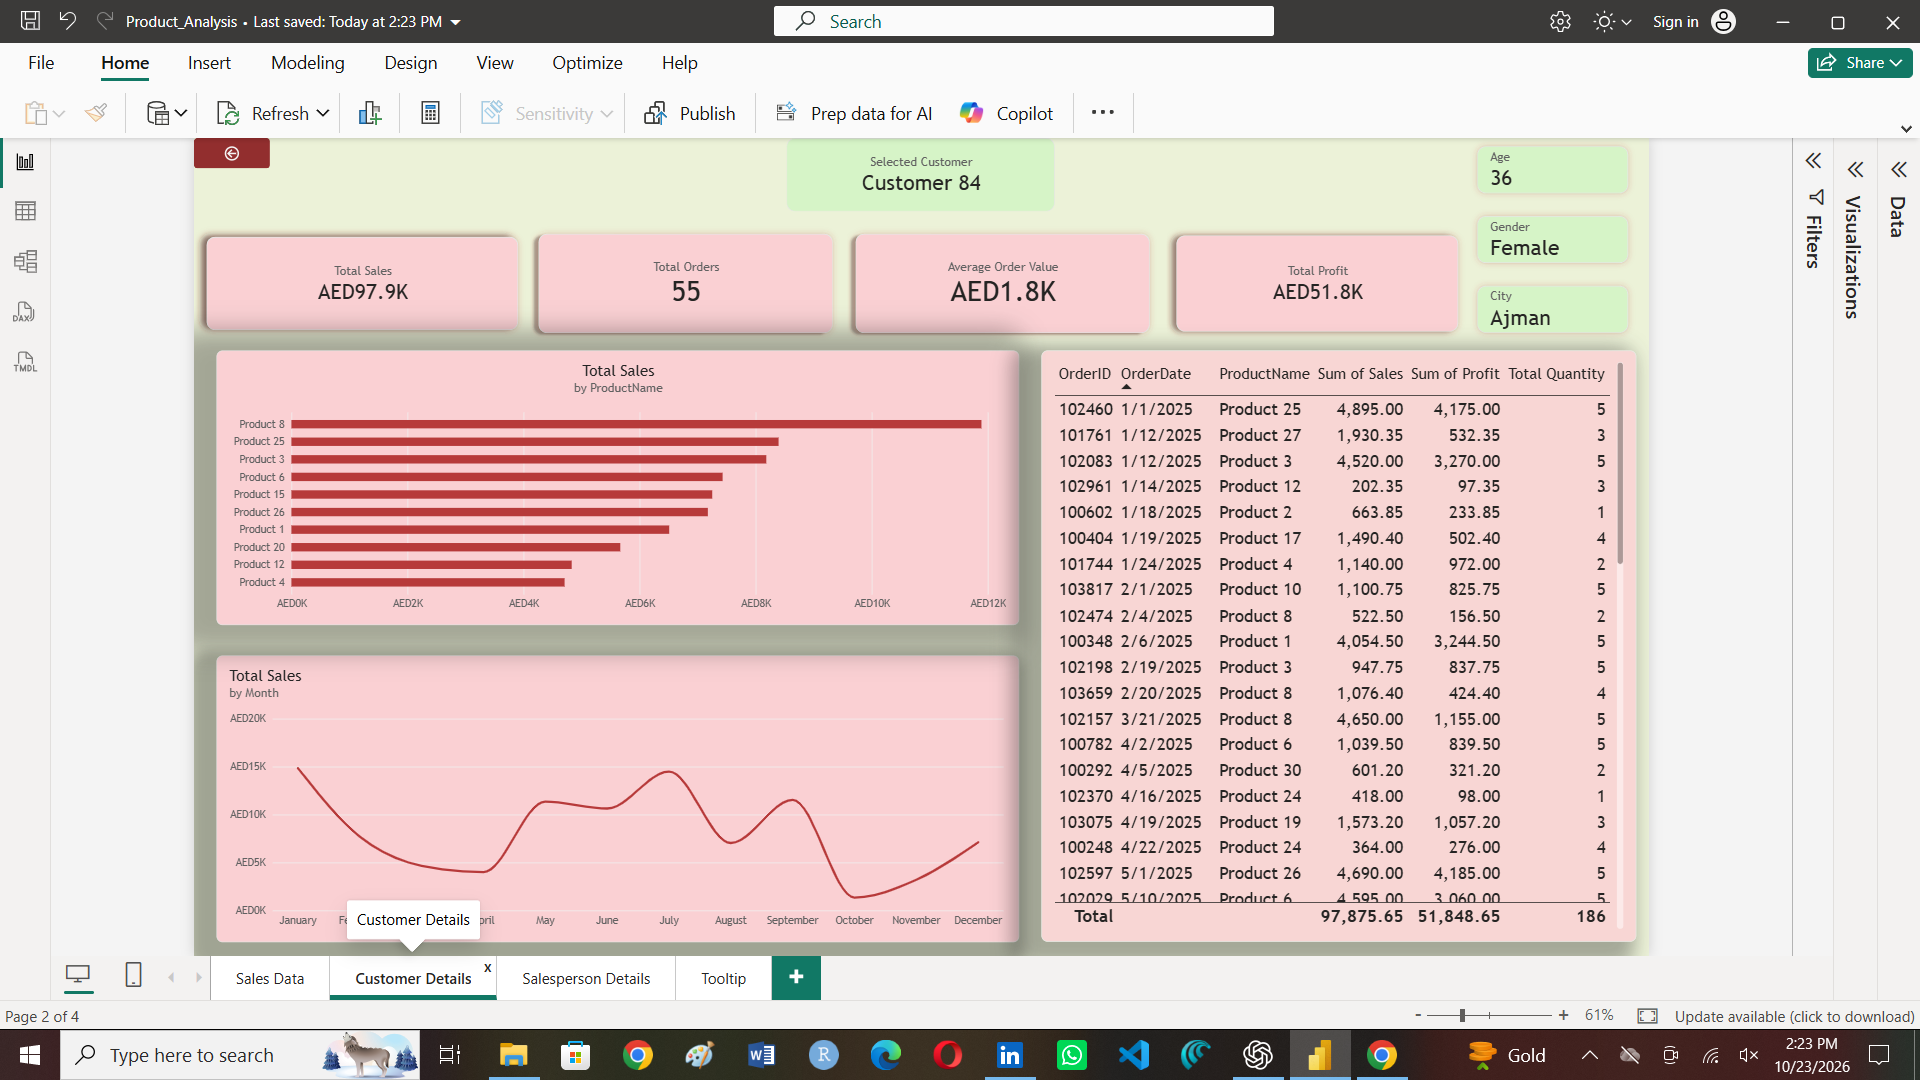

Layout of this report page (visuals, bound fields, positions):
{"tool":"powerbi","page":{"name":"Customer Details","canvas":[1920,1080],"ordinal":1},"visuals":[{"type":"actionButton","box":[0,0,100,40],"z":0},{"type":"cardVisual","fields":{"Data":["Measure Table.Total Sales"]},"box":[1.8,116.1,441.1,153.6],"z":1},{"type":"cardVisual","fields":{"Data":["Measure Table.Total Orders","Measure Table.Average Order Value"]},"box":[442.9,116.1,828.6,153.6],"z":2},{"type":"cardVisual","fields":{"Data":["Measure Table.Total Profit"]},"box":[1283.9,116.1,398.2,153.6],"z":3},{"type":"lineChart","fields":{"Category":["Date Table.Month"],"Y":["Measure Table.Total Sales"]},"box":[30.4,682.1,1058.9,378.6],"z":4},{"type":"barChart","fields":{"Category":["Products.ProductName"],"Y":["Measure Table.Total Sales"]},"box":[30.4,280.4,1058.9,362.5],"z":5},{"type":"tableEx","fields":{"Values":["Orders.OrderID","Orders.OrderDate","Products.ProductName","Sum(Orders.Sales)","Sum(Orders.Profit)","Measure Table.Total Quantity"]},"box":[1118.3,280.4,785.1,780.2],"z":6},{"type":"actionButton","box":[0,0,100,40],"z":7},{"type":"cardVisual","fields":{"Data":["Measure Table.Selected Customer"]},"box":[781.8,0,354.6,97.3],"z":8},{"type":"cardVisual","fields":{"Data":["Sum(Customers.Age)","Min(Customers.Gender)","Min(Customers.City)"]},"box":[1682.2,0,221.4,269.6],"z":9}]}

Visuals, with their boxes on the page's 1920x1080 design canvas (x1, y1, x2, y2). These are canvas units, not pixel positions in the 1920x1080 screenshot, which may show the page scaled, cropped or inside an application window:
actionButton: 0 0 100 40
cardVisual - Measure Table.Total Sales: 2 116 443 270
cardVisual - Measure Table.Total Orders x Measure Table.Average Order Value: 443 116 1272 270
cardVisual - Measure Table.Total Profit: 1284 116 1682 270
lineChart - Date Table.Month x Measure Table.Total Sales: 30 682 1089 1061
barChart - Products.ProductName x Measure Table.Total Sales: 30 280 1089 643
tableEx - Orders.OrderID x Orders.OrderDate: 1118 280 1903 1061
actionButton: 0 0 100 40
cardVisual - Measure Table.Selected Customer: 782 0 1136 97
cardVisual - Sum(Customers.Age) x Min(Customers.Gender): 1682 0 1904 270
